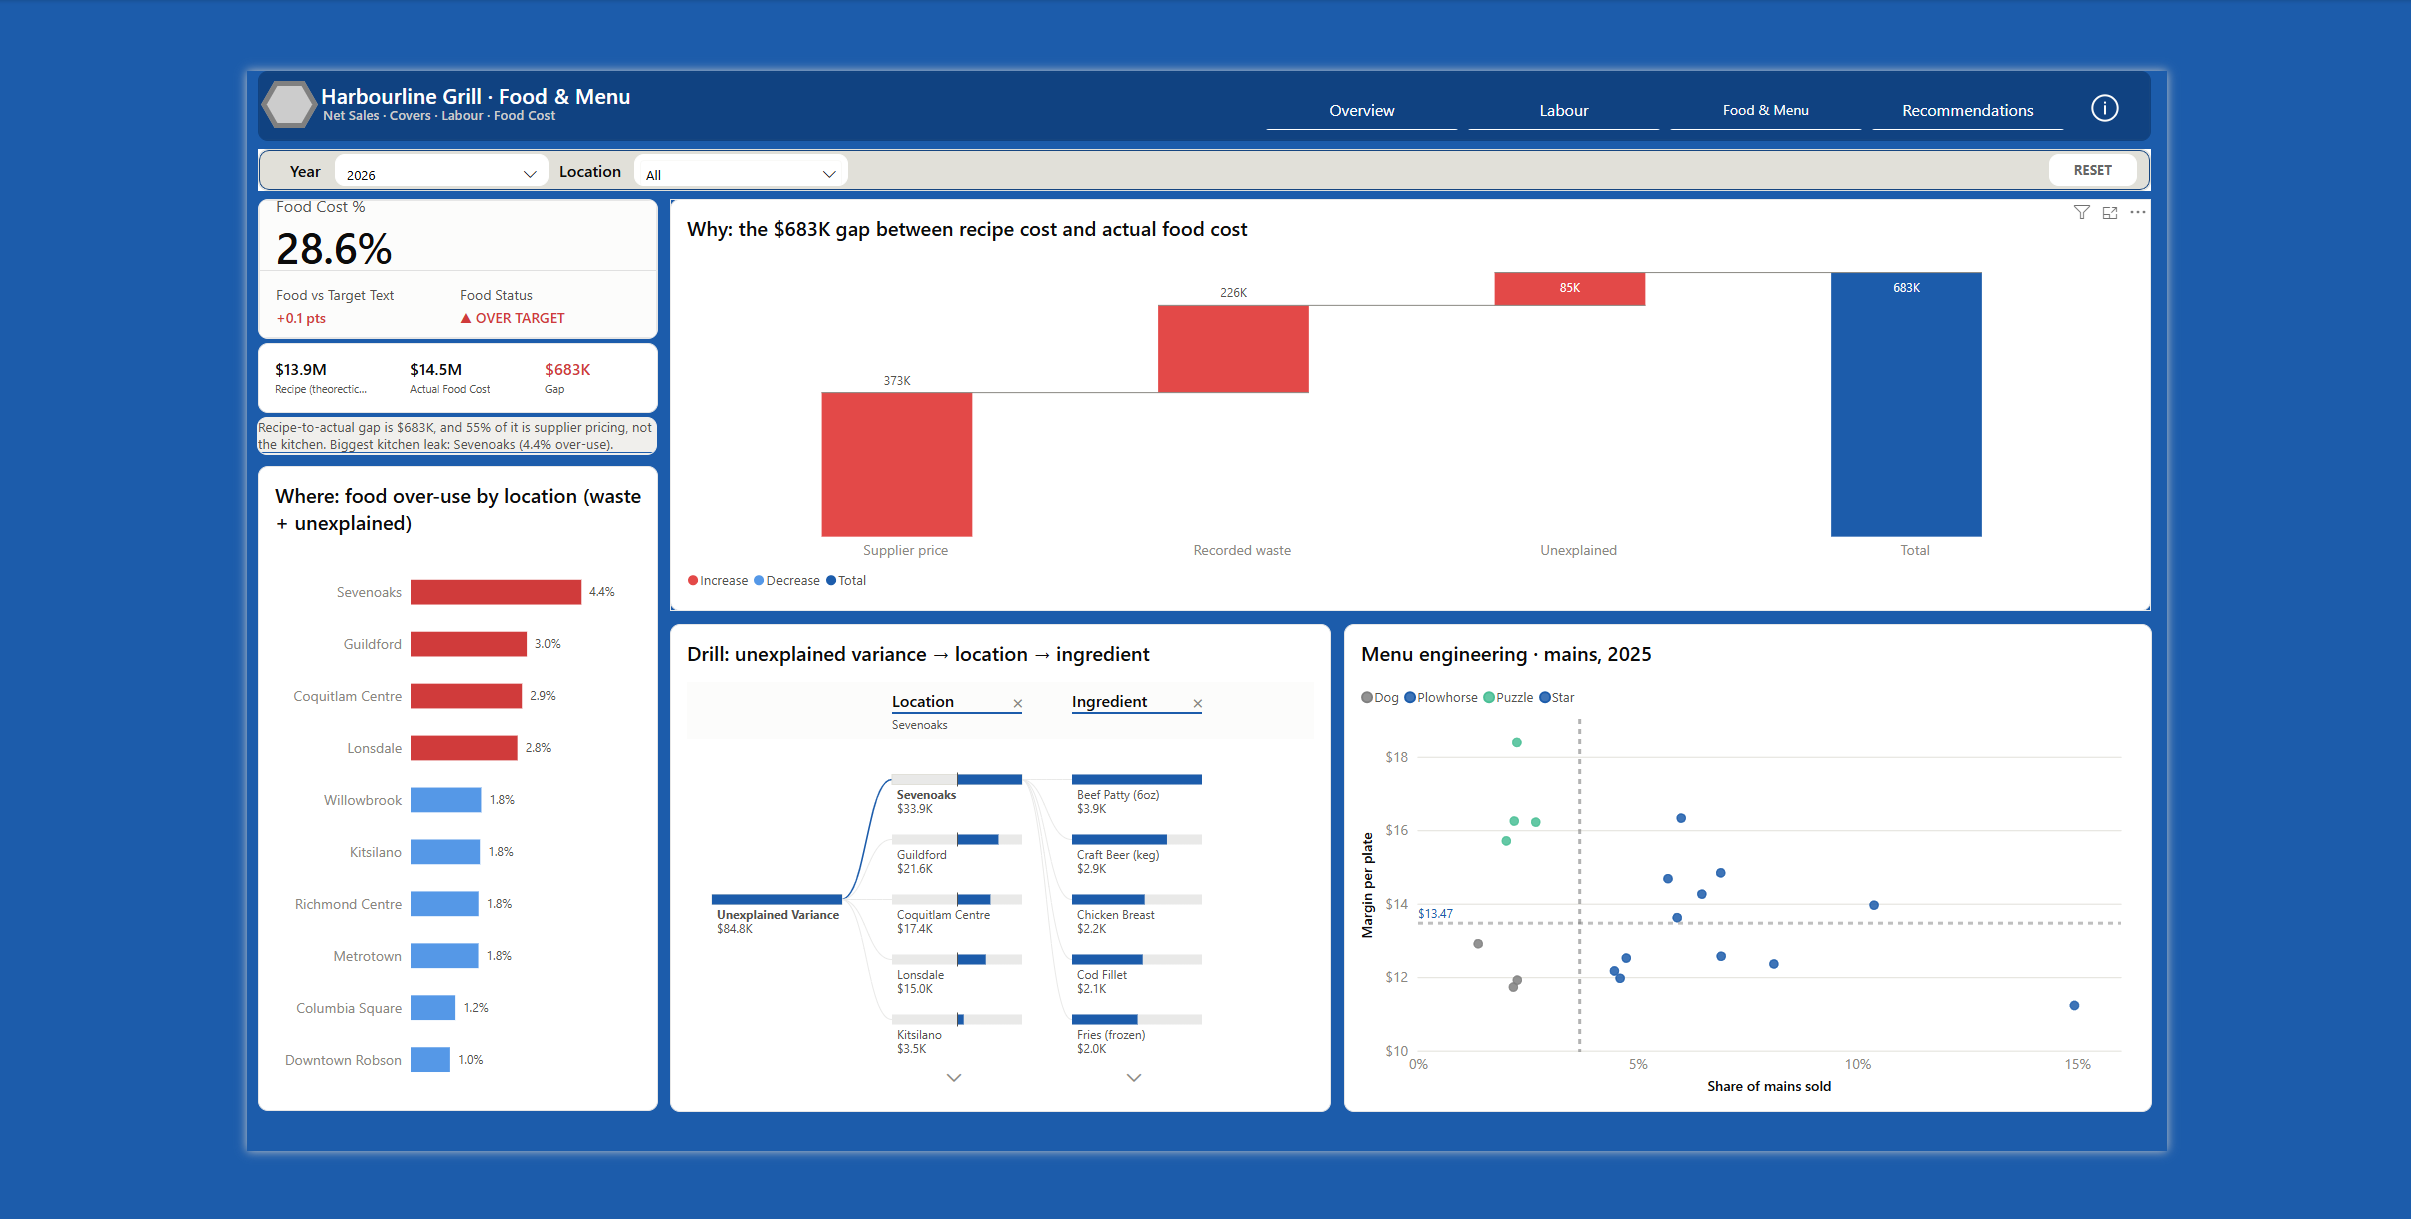

Layout of this report page (visuals, bound fields, positions):
{"tool":"powerbi","page":{"name":"Food & Menu","canvas":[1920,1080],"ordinal":2},"visuals":[{"type":"shape","title":"Harbourline Grill · Overview","box":[10.8,0,1893.5,69.7],"z":0,"group":"g1"},{"type":"group","id":"g1","title":"Header","box":[10.8,0,1893.5,69.7],"z":0},{"type":"shape","box":[10.8,77.9,1892.9,42.2],"z":0,"group":"g2"},{"type":"textbox","title":"Harbourline Grill · Food & Menu","box":[74.1,10.1,325.6,29.3],"z":1000,"group":"g1"},{"type":"group","id":"g2","title":"Sub header","box":[10.8,77.9,1892.9,42.2],"z":1000},{"type":"textbox","title":"Year","box":[43.3,88.7,44.4,20.6],"z":1000,"group":"g2"},{"type":"shape","box":[14.5,9.6,56.6,47],"z":2000},{"type":"textbox","title":"Net Sales · Covers · Labour · Food Cost","box":[75.6,35.4,300.5,29.5],"z":2000,"group":"g1"},{"type":"textbox","title":"Location","box":[311.7,88.7,64.9,20.6],"z":2000,"group":"g2"},{"type":"pageNavigator","box":[1017.4,18.7,800.4,40.3],"z":3000,"group":"g1"},{"type":"slicer","fields":{"Values":["DIM_DATE.YEAR"]},"box":[87.6,83.3,214.3,31.4],"z":3000,"group":"g2"},{"type":"cardVisual","fields":{"Data":["_Measures.Food Cost %"]},"box":[10.8,128,400,140],"z":3000},{"type":"actionButton","box":[1825.7,14.7,63.8,44.2],"z":4000,"group":"g1"},{"type":"slicer","fields":{"Values":["DIM_LOCATION.LOCATION_NAME"]},"box":[386.4,83.3,214,31.4],"z":4000,"group":"g2"},{"type":"cardVisual","fields":{"Data":["_Measures.Theoretical Cost (Std)","_Measures.Actual Food Cost","_Measures.Food Gap $"]},"box":[10.8,272,400,70],"z":4000},{"type":"actionButton","box":[1801.9,83.1,88,31.3],"z":5000,"group":"g2"},{"type":"textbox","box":[9.8,345.5,400.5,38.3],"z":5000},{"type":"clusteredBarChart","title":"Where: food over-use by location (waste + unexplained)","fields":{"Category":["DIM_LOCATION.LOCATION_NAME"],"Y":["_Measures.Over-use %"]},"box":[11.3,395.5,400,644.5],"z":6000},{"type":"waterfallChart","fields":{"Category":["Waterfall Steps.Step"],"Y":["_Measures.Waterfall Value"]},"box":[422.5,128.5,1481.7,411.3],"z":7000},{"type":"decompositionTreeVisual","title":"Drill: unexplained variance → location → ingredient","fields":{"Analyze":["_Measures.Unexplained Variance"],"ExplainBy":["DIM_LOCATION.LOCATION_NAME","DIM_INGREDIENT.INGREDIENT_NAME"]},"box":[422.5,553.2,661.4,487.9],"z":8000},{"type":"scatterChart","title":"Menu engineering · mains, 2025","fields":{"Category":["MENU_ENGINEERING_2025.MENU_ITEM_NAME"],"Series":["MENU_ENGINEERING_2025.QUADRANT"],"X":["Sum(MENU_ENGINEERING_2025.MENU_MIX_PCT)"],"Y":["Sum(MENU_ENGINEERING_2025.CONTRIBUTION_MARGIN_2025)"]},"box":[1097.5,553.2,807.9,487.9],"z":9000}]}

Visuals, with their boxes on the page's 1920x1080 design canvas (x1, y1, x2, y2). These are canvas units, not pixel positions in the 2411x1219 screenshot, which may show the page scaled, cropped or inside an application window:
"Harbourline Grill · Overview" shape: 11, 0, 1904, 70
"Header" group: 11, 0, 1904, 70
shape: 11, 78, 1904, 120
"Harbourline Grill · Food & Menu" textbox: 74, 10, 400, 39
"Sub header" group: 11, 78, 1904, 120
"Year" textbox: 43, 89, 88, 109
shape: 14, 10, 71, 57
"Net Sales · Covers · Labour · Food Cost" textbox: 76, 35, 376, 65
"Location" textbox: 312, 89, 377, 109
pageNavigator: 1017, 19, 1818, 59
slicer - DIM_DATE.YEAR: 88, 83, 302, 115
cardVisual - _Measures.Food Cost %: 11, 128, 411, 268
actionButton: 1826, 15, 1890, 59
slicer - DIM_LOCATION.LOCATION_NAME: 386, 83, 600, 115
cardVisual - _Measures.Theoretical Cost (Std) x _Measures.Actual Food Cost: 11, 272, 411, 342
actionButton: 1802, 83, 1890, 114
textbox: 10, 346, 410, 384
"Where: food over-use by location (waste + unexplained)" clusteredBarChart: 11, 396, 411, 1040
waterfallChart - Waterfall Steps.Step x _Measures.Waterfall Value: 422, 128, 1904, 540
"Drill: unexplained variance → location → ingredient" decompositionTreeVisual: 422, 553, 1084, 1041
"Menu engineering · mains, 2025" scatterChart: 1098, 553, 1905, 1041
